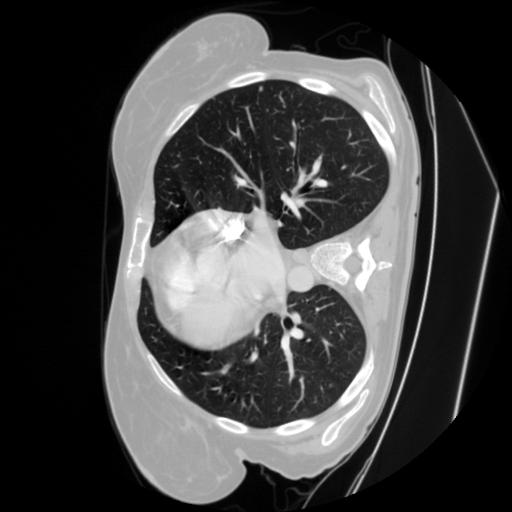nodule: (256, 82, 268, 94)
